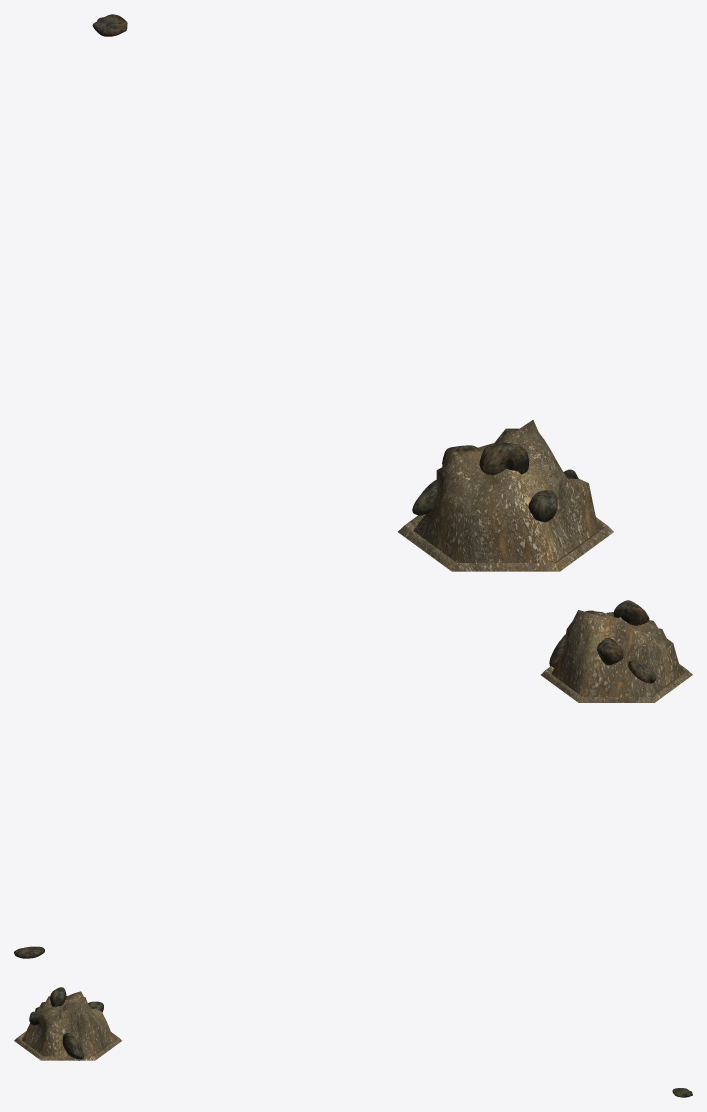
Rendered from rocky-hills.glb.
3 views of the same model, one above another, from view 1: azimuth 30°, elevation 25°; view 2: azimuth 150°, elevation 25°; view 3: azimuth 270°, elevation 25° (orthographic). The views are drawn at different scales.
Visible parts, largest first — view 1: HexagonTile.009, small_rock_03.002; view 2: HexagonTile.009, small_rock_03.002; view 3: HexagonTile.009, small_rock_03.007, small_rock_03.002.
Part boxes in pixels (x1,y1,x2,y2): HexagonTile.009: (398, 420, 613, 571); small_rock_03.002: (479, 442, 528, 475); HexagonTile.009: (541, 610, 692, 702); small_rock_03.002: (613, 600, 649, 625); HexagonTile.009: (14, 991, 121, 1060); small_rock_03.007: (62, 1033, 84, 1060); small_rock_03.002: (50, 987, 66, 1006).
Size of the model in its own units: 3.39 by 1.03 by 12.54.
2 materials, 2 textured.
